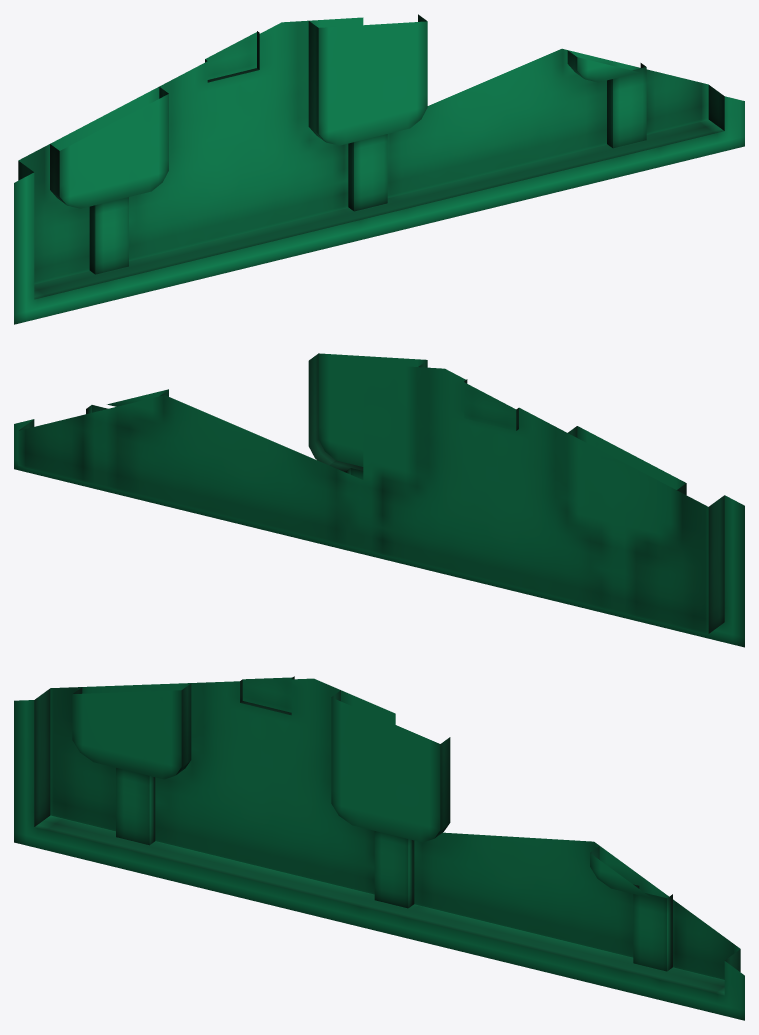
File: sc_finalBoss_slideDoorC_destroyed_C.FBX
3 views of the same model, one above another, from view 1: azimuth 30°, elevation 25°; view 2: azimuth 150°, elevation 25°; view 3: azimuth 330°, elevation 25° (orthographic).
Parts seen in each view (by area): view 1: finalBoss_slideDoorC_destroyed_C; view 2: finalBoss_slideDoorC_destroyed_C; view 3: finalBoss_slideDoorC_destroyed_C.
Boxes of the visible parts, box(x1,y1,x2,y2) form: finalBoss_slideDoorC_destroyed_C: box(14, 14, 744, 324); finalBoss_slideDoorC_destroyed_C: box(14, 353, 744, 647); finalBoss_slideDoorC_destroyed_C: box(14, 676, 744, 1020).
Size of the model in its own units: 14.24 by 4.12 by 0.6348.
